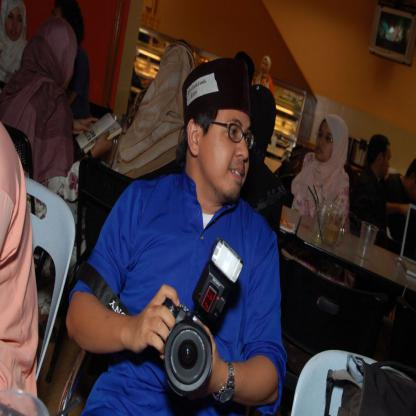Camera: (159, 234, 245, 403)
